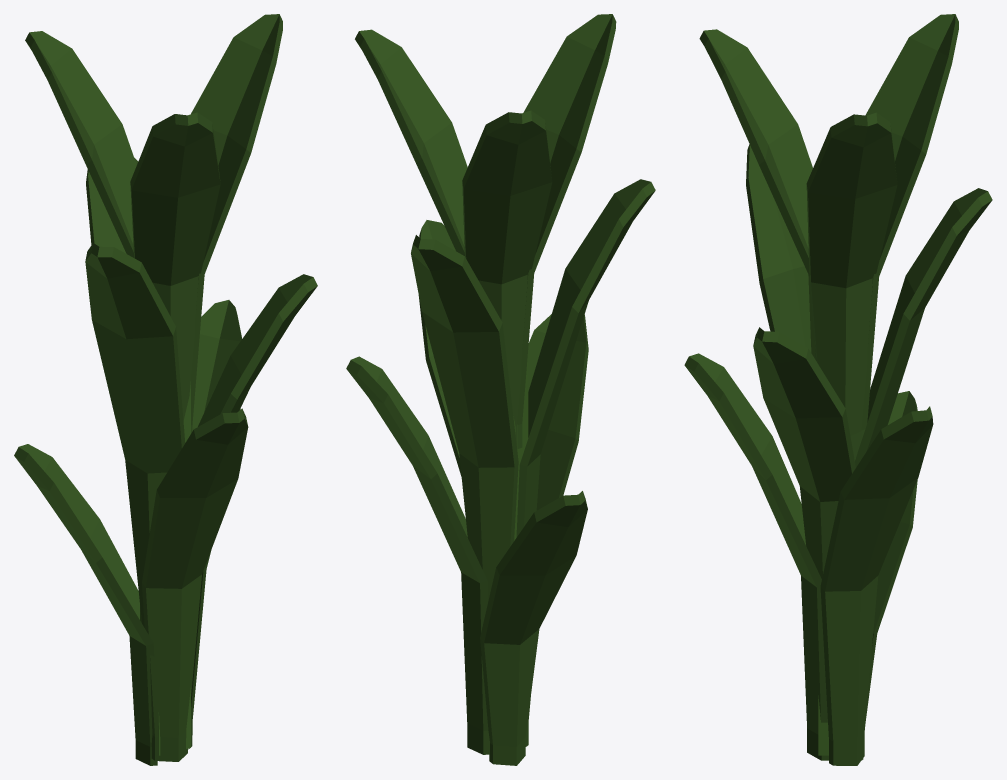
File: DecorePlant3.fbx
3 views of the same model, side by side, from view 1: azimuth 30°, elevation 25°; view 2: azimuth 150°, elevation 25°; view 3: azimuth 270°, elevation 25° (orthographic).
Visible parts, largest first — view 1: Tall_Plant; view 2: Tall_Plant; view 3: Tall_Plant.
Boxes of the visible parts, left/top/right/bottom form: Tall_Plant: left=14, top=14, right=317, bottom=765; Tall_Plant: left=346, top=14, right=655, bottom=765; Tall_Plant: left=684, top=14, right=992, bottom=765.
Size of the model in its own units: 1.38 by 3.75 by 1.48.
